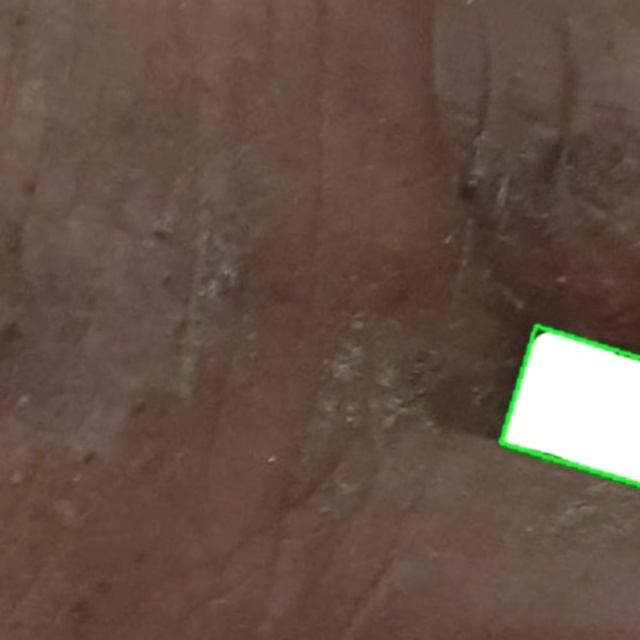Eczema: (498, 326, 639, 487)
